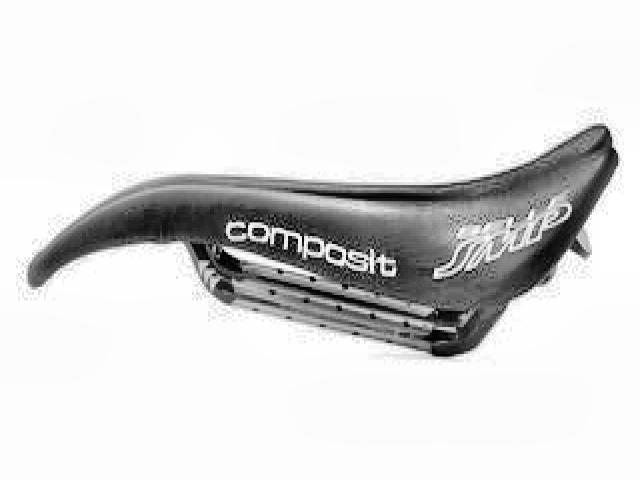saddle: (18, 113, 622, 365)
